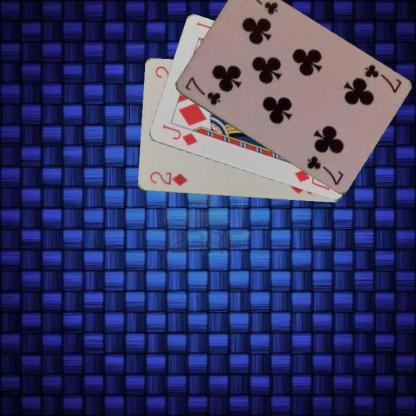2d: (147, 169, 188, 188)
7c: (362, 61, 402, 95), (182, 74, 223, 107)
Jd: (160, 122, 198, 147)
